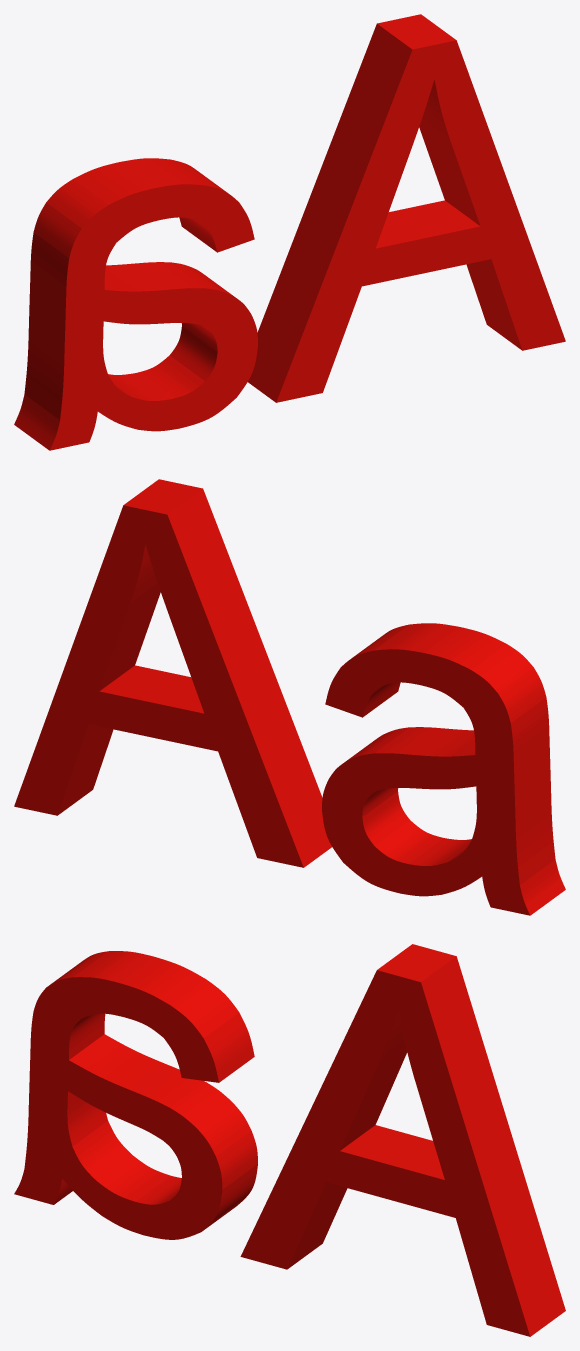
3 renders of one model, top to bottom at view 1: azimuth 30°, elevation 25°; view 2: azimuth 150°, elevation 25°; view 3: azimuth 330°, elevation 25°, orthographic.
Visible parts, largest first — view 1: uploads files 2013243 Аа; view 2: uploads files 2013243 Аа; view 3: uploads files 2013243 Аа.
Part boxes in pixels (x1,y1,x2,y2): uploads files 2013243 Аа: (14,14,565,450); uploads files 2013243 Аа: (14,479,565,915); uploads files 2013243 Аа: (14,944,565,1336).
Bounding box in the file's own units: 11.93 × 7.27 × 1.43.
